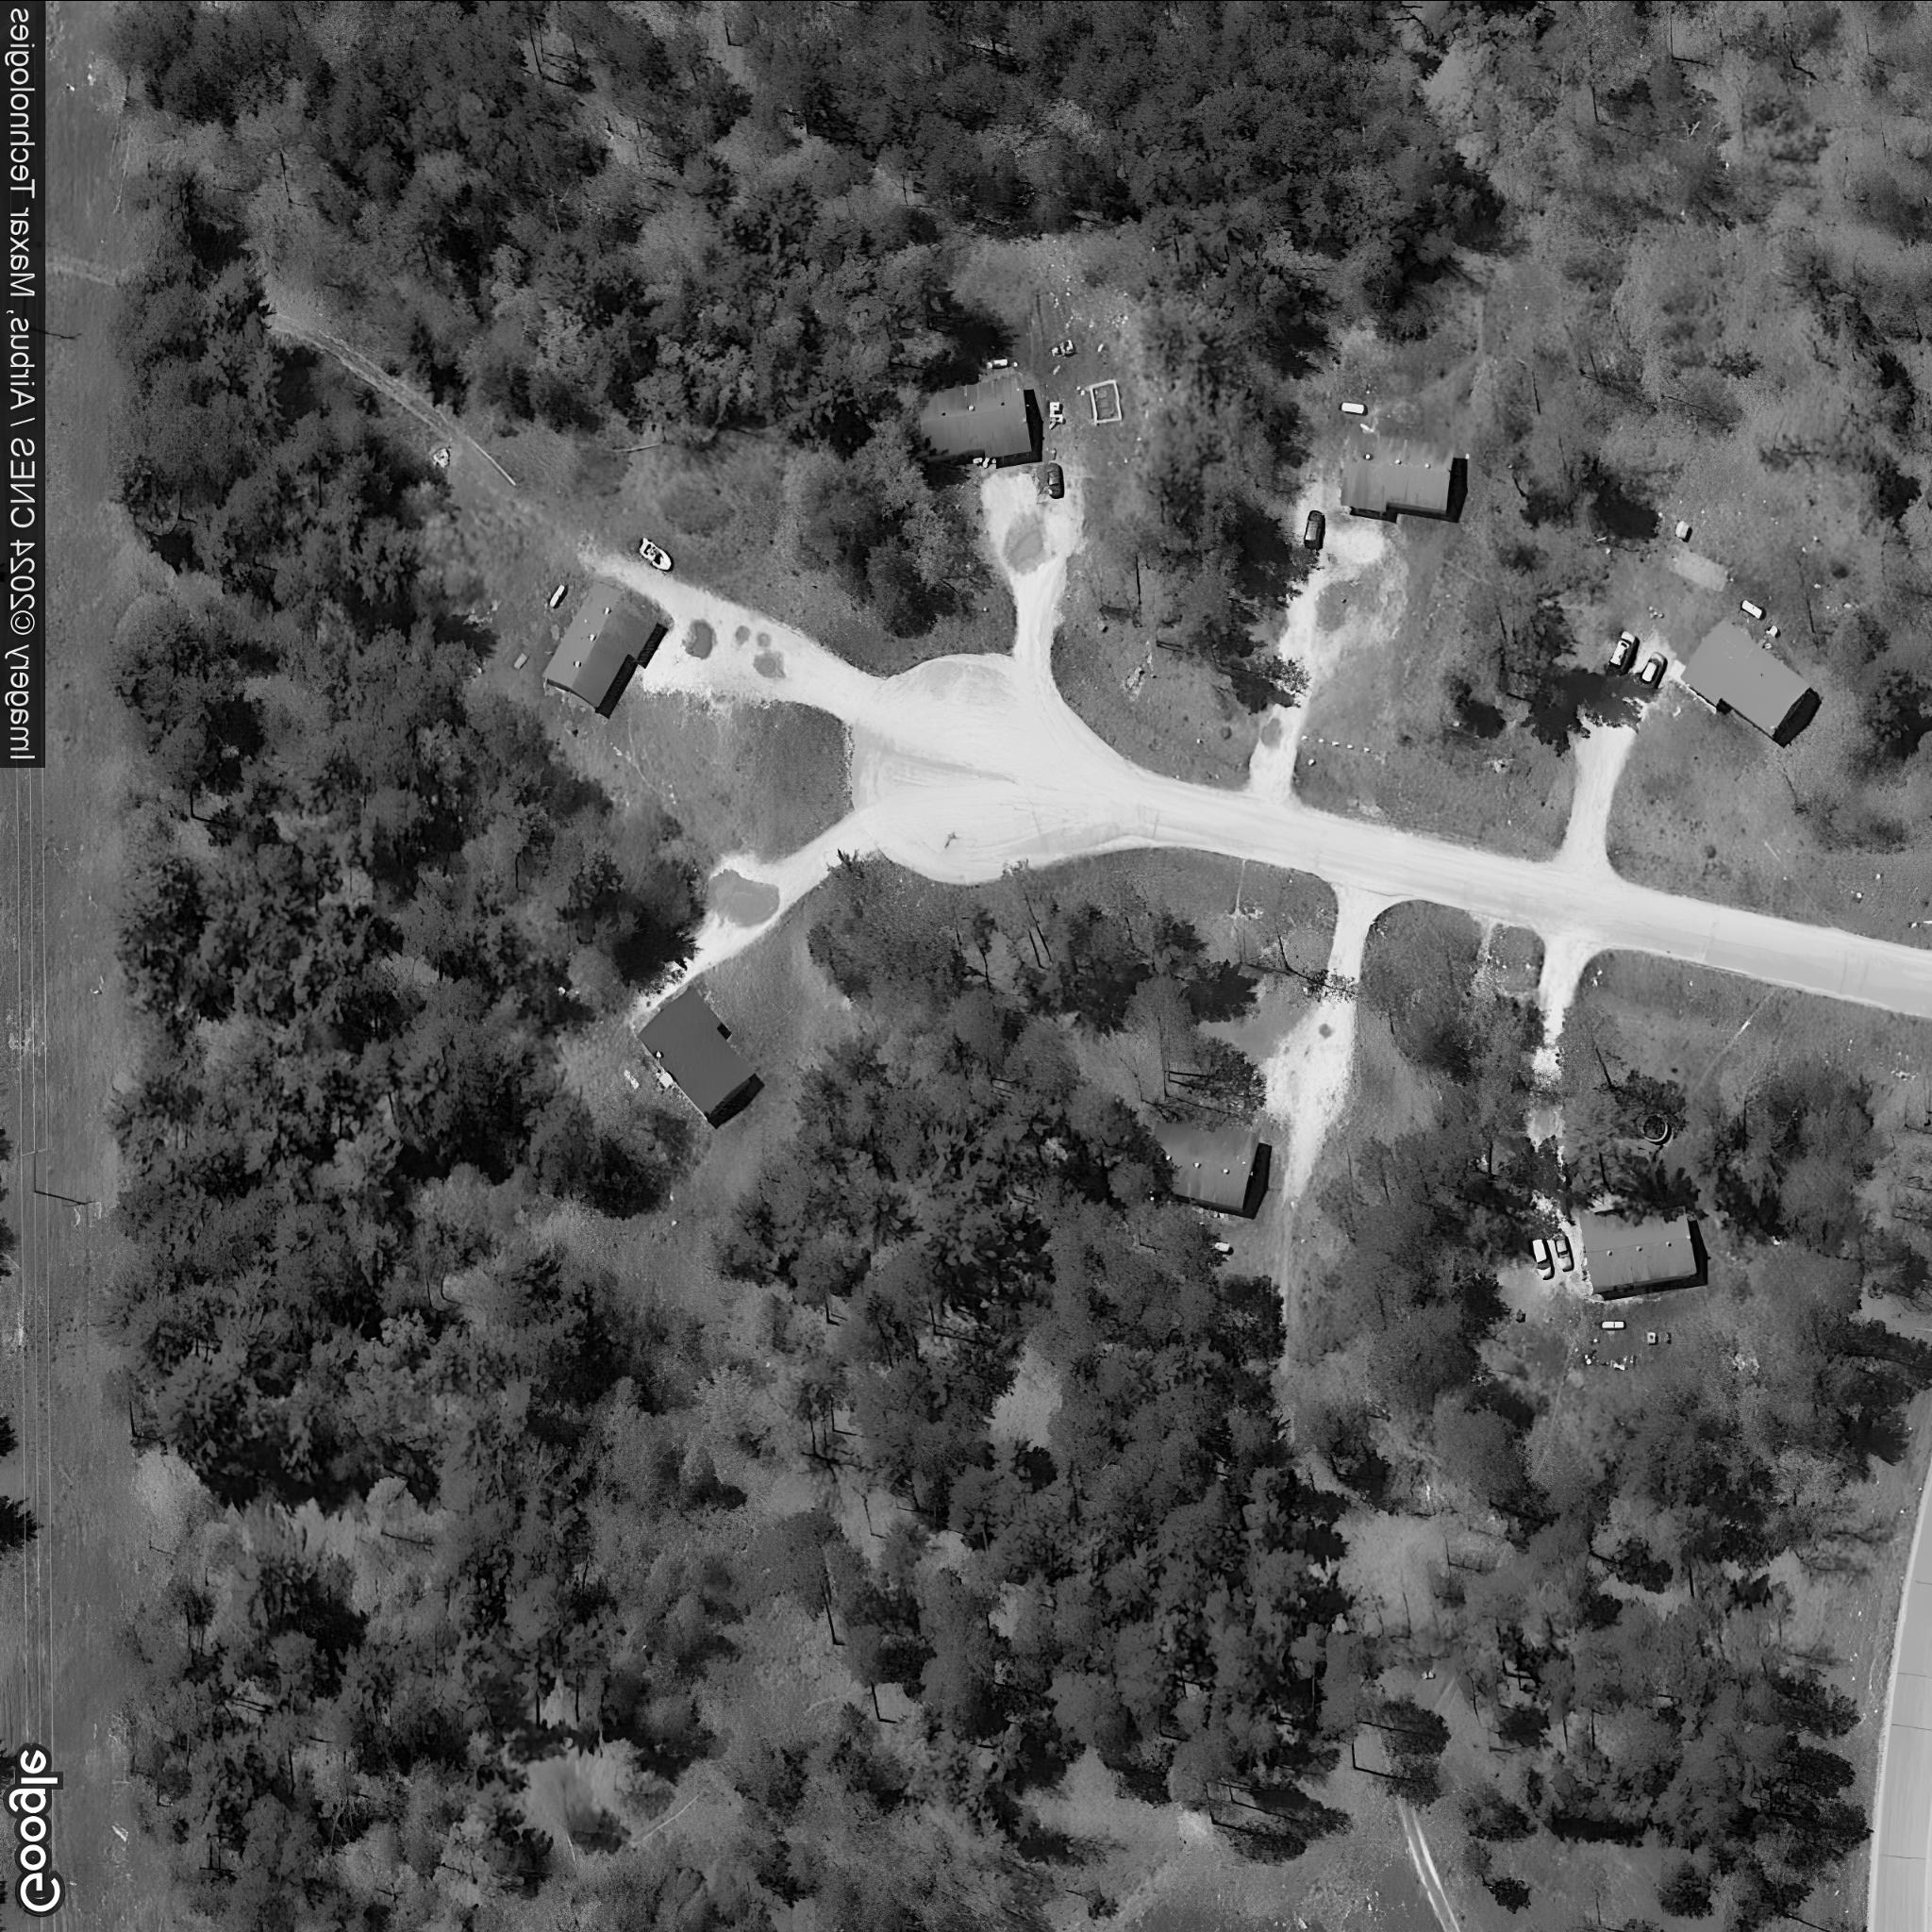House: (633, 982, 757, 1122), (1679, 616, 1815, 738), (540, 577, 658, 709), (1578, 1198, 1702, 1297), (1143, 1116, 1263, 1214), (909, 373, 1033, 460), (1339, 432, 1456, 515)
Propane: (1736, 594, 1769, 625), (543, 579, 571, 612), (619, 1063, 644, 1092), (1336, 398, 1369, 418), (1598, 1316, 1629, 1332), (1208, 1238, 1235, 1256), (985, 356, 1014, 368)
